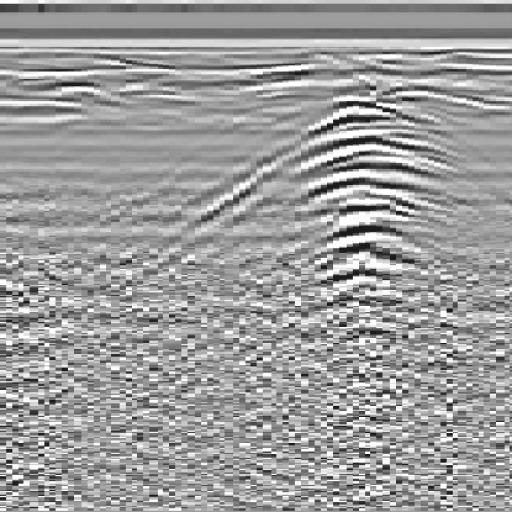metalic: (142, 62, 512, 358)
